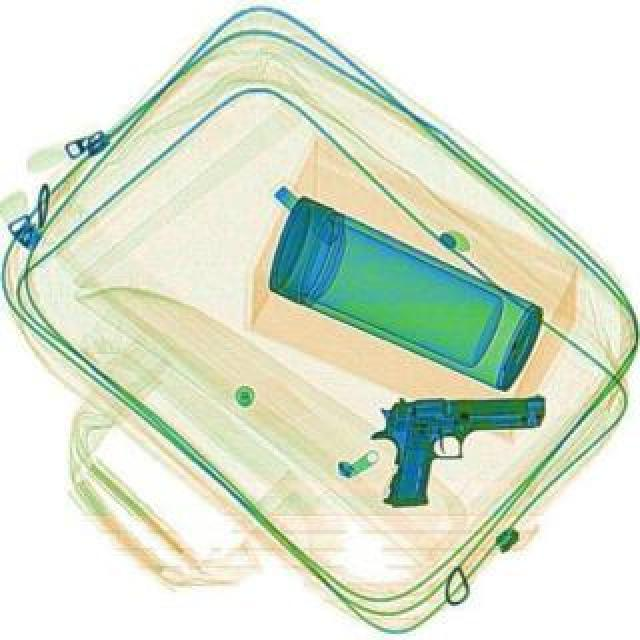gun: (368, 392, 548, 506)
